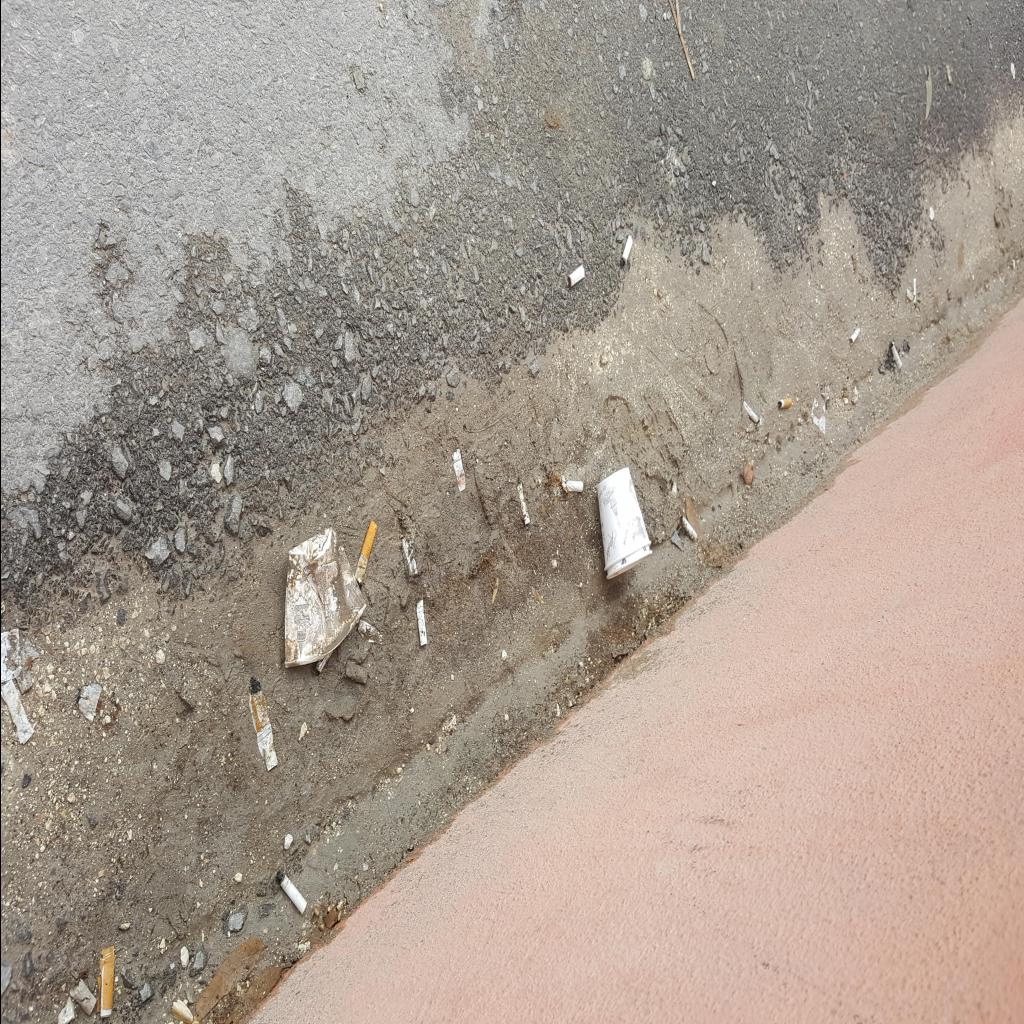Cigarette: (249, 676, 277, 771), (1, 678, 33, 744), (354, 520, 376, 592), (276, 872, 306, 914), (678, 513, 696, 543), (416, 600, 426, 646), (566, 266, 584, 288), (888, 342, 902, 370), (742, 400, 758, 424), (620, 236, 632, 266), (562, 480, 582, 492), (848, 326, 860, 344), (776, 397, 792, 410)
Paper cup: (284, 526, 366, 668), (596, 468, 649, 570), (605, 546, 651, 580)
Unlabeled litter: (1, 628, 20, 682), (76, 684, 101, 720), (356, 620, 382, 646), (516, 480, 530, 526), (450, 448, 464, 492), (401, 538, 417, 574), (912, 279, 916, 303)
Wrapping paper: (95, 945, 115, 1017)
